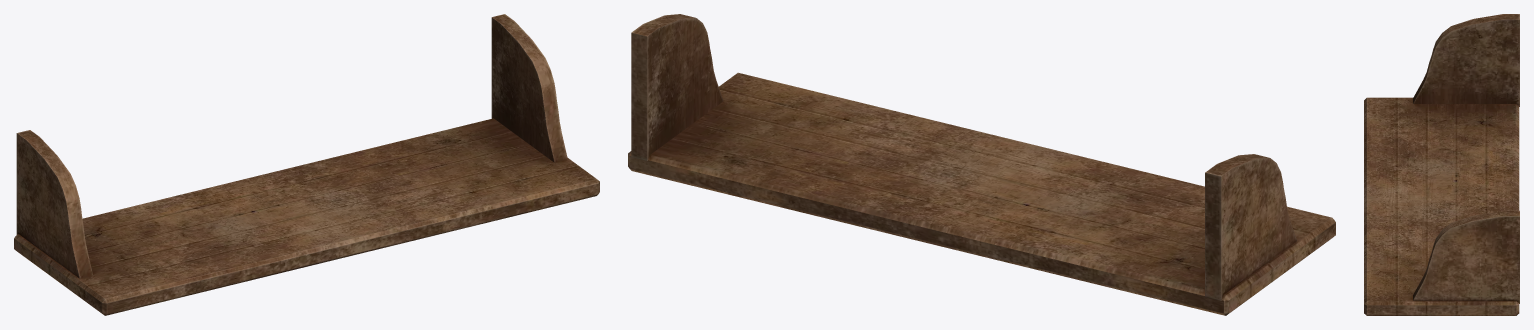
Rendered from coci_old_kitchen_shelf.glb.
3 views of the same model, side by side, from view 1: azimuth 30°, elevation 25°; view 2: azimuth 150°, elevation 25°; view 3: azimuth 270°, elevation 25° (orthographic). The views are drawn at different scales.
Parts seen in each view (by area): view 1: shelf_low_Material_0; view 2: shelf_low_Material_0; view 3: shelf_low_Material_0.
Boxes of the visible parts, <box> form: shelf_low_Material_0: <box>14,14,599,315</box>; shelf_low_Material_0: <box>628,14,1335,315</box>; shelf_low_Material_0: <box>1364,14,1519,315</box>.
Size of the model in its own units: 1.2 by 0.2683 by 0.3835.
Materials: 1 (1 with a texture image).
